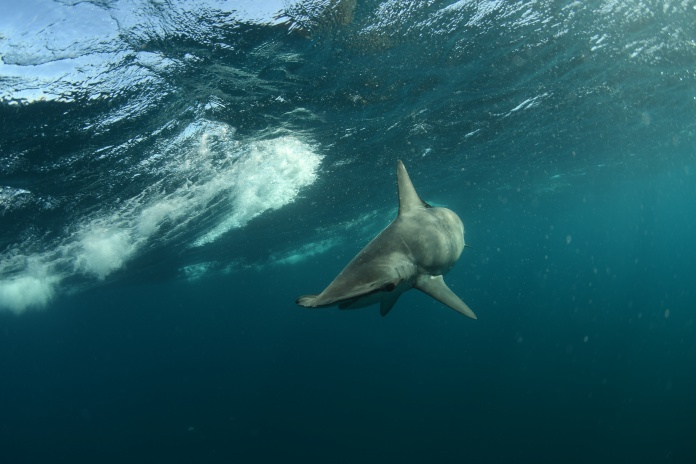Hammer: (137, 163, 474, 321)
